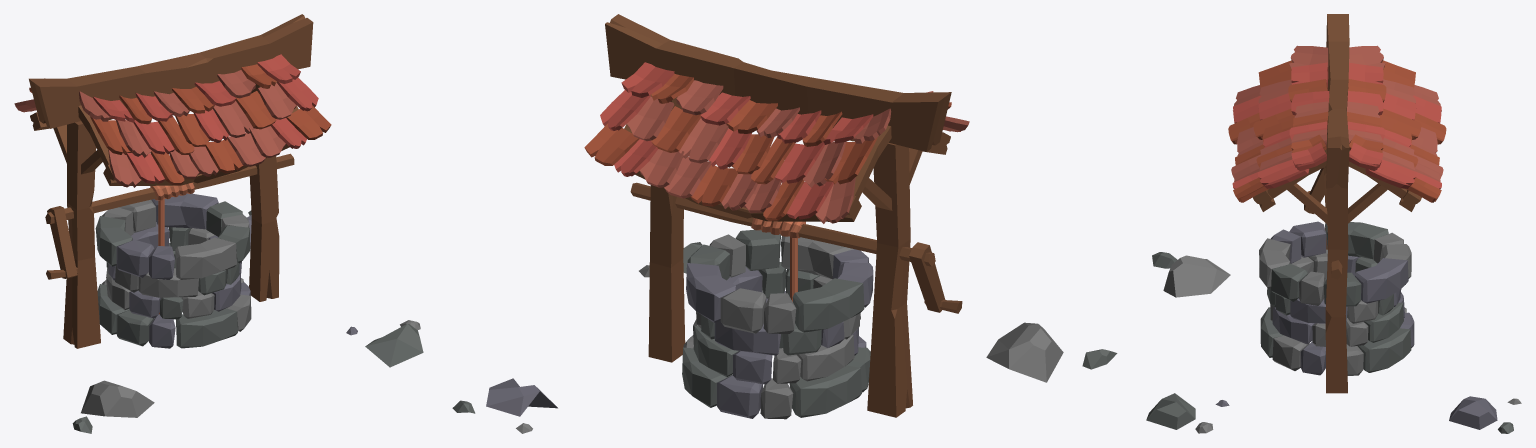
The model's file is well.glb.
3 renders of one model, left to right at view 1: azimuth 30°, elevation 25°; view 2: azimuth 150°, elevation 25°; view 3: azimuth 270°, elevation 25°, orthographic. The views are drawn at different scales.
Parts seen in each view (by area): view 1: Cube.002, Brick.003, Cube.001, Brick, Cube, Brick.002, Brick.001, Icosphere, Cube.036, Icosphere.001, Cube.037, Cube.008 (+33 smaller); view 2: Brick.003, Cube.002, Cube.001, Brick, Cube, Brick.002, Brick.001, Icosphere, Cube.036, Icosphere.005, Cube.008, Cube.014 (+33 smaller); view 3: Brick.003, Brick, Cube, Cube.002, Brick.002, Brick.001, Icosphere, Cube.025, Cube.028, Cube.034, Cube.026, Icosphere.001 (+30 smaller).
Part boxes in pixels (bbox=[...]): Cube.002: bbox=[29, 14, 313, 128]; Brick.003: bbox=[95, 193, 250, 279]; Cube.001: bbox=[63, 121, 100, 348]; Brick: bbox=[97, 278, 251, 348]; Cube: bbox=[249, 83, 279, 301]; Brick.002: bbox=[106, 222, 241, 297]; Brick.001: bbox=[106, 243, 241, 319]; Icosphere: bbox=[81, 380, 154, 417]; Cube.036: bbox=[45, 153, 294, 224]; Icosphere.001: bbox=[365, 323, 423, 367]; Cube.037: bbox=[47, 206, 77, 278]; Cube.008: bbox=[14, 99, 141, 187]; Brick.003: bbox=[686, 229, 873, 333]; Cube.002: bbox=[605, 14, 951, 151]; Cube.001: bbox=[867, 143, 912, 417]; Brick: bbox=[682, 334, 870, 419]; Cube: bbox=[648, 97, 685, 362]; Brick.002: bbox=[696, 262, 860, 355]; Brick.001: bbox=[693, 291, 858, 384]; Icosphere: bbox=[986, 322, 1063, 382]; Cube.036: bbox=[630, 182, 935, 266]; Icosphere.005: bbox=[486, 378, 557, 416]; Cube.008: bbox=[815, 116, 969, 223]; Cube.014: bbox=[584, 123, 639, 165]; Brick.003: bbox=[1259, 221, 1411, 306]; Brick: bbox=[1260, 307, 1414, 375]; Cube: bbox=[1325, 166, 1348, 393]; Cube.002: bbox=[1326, 14, 1349, 188]; Brick.002: bbox=[1267, 249, 1401, 323]; Brick.001: bbox=[1270, 278, 1404, 346]; Icosphere: bbox=[1163, 255, 1230, 297]; Cube.025: bbox=[1258, 159, 1416, 188]; Cube.028: bbox=[1289, 45, 1385, 69]; Cube.034: bbox=[1291, 142, 1383, 170]; Cube.026: bbox=[1291, 62, 1383, 87]; Icosphere.001: bbox=[1146, 393, 1195, 429].
Size of what is drawn, in the model's own units: 5.19 by 3.77 by 4.68.
